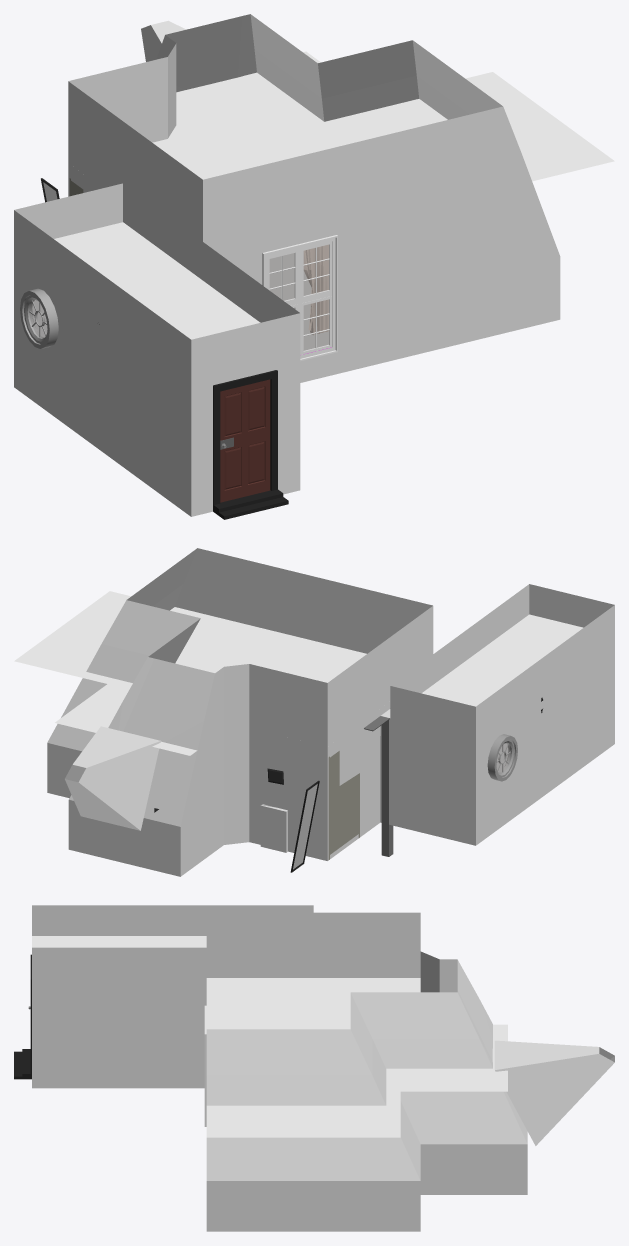
The model's file is physMesh.gltf.
The picture shows the model from 3 angles, top to bottom: view 1: azimuth 30°, elevation 25°; view 2: azimuth 150°, elevation 25°; view 3: azimuth 270°, elevation 25°; orthographic projection. The views are drawn at different scales.
Visible parts, largest first — view 1: Plane, Plane.001, window4, door12, door1Frame1, window6, windowCurtain1; view 2: Plane, Plane.001, bookshelf, frag1, window6, bathroomMirror; view 3: Plane, Plane.001, door1Frame1.
Boxes of the visible parts, bbox=[...] form: Plane: bbox=[14, 14, 560, 516]; Plane.001: bbox=[54, 51, 614, 339]; window4: bbox=[262, 235, 337, 361]; door12: bbox=[220, 379, 270, 502]; door1Frame1: bbox=[213, 370, 288, 519]; window6: bbox=[20, 288, 58, 348]; windowCurtain1: bbox=[303, 244, 328, 334]; Plane: bbox=[47, 548, 614, 876]; Plane.001: bbox=[14, 591, 583, 755]; bookshelf: bbox=[328, 751, 359, 859]; frag1: bbox=[364, 716, 393, 856]; window6: bbox=[487, 734, 517, 781]; bathroomMirror: bbox=[290, 780, 319, 872]; Plane: bbox=[32, 905, 614, 1231]; Plane.001: bbox=[32, 936, 507, 1137]; door1Frame1: bbox=[14, 954, 31, 1079].
Size of the model in its own units: 10.7 by 5.06 by 12.92.
8 materials, 6 textured.
